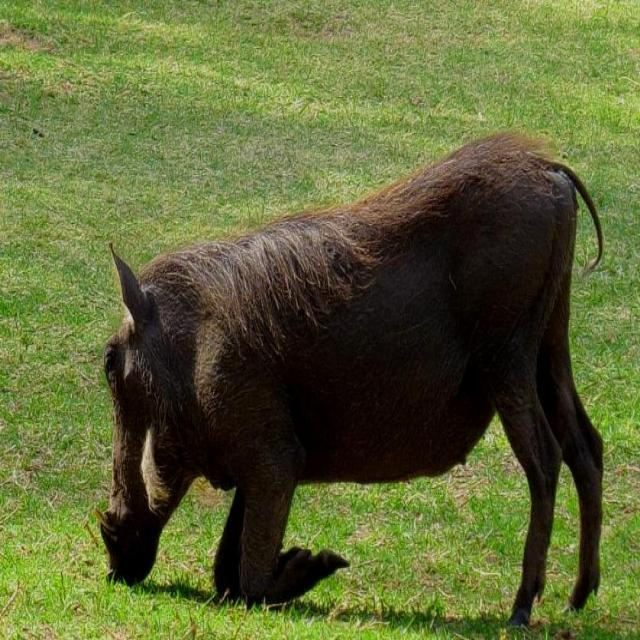pig: (100, 133, 602, 626)
